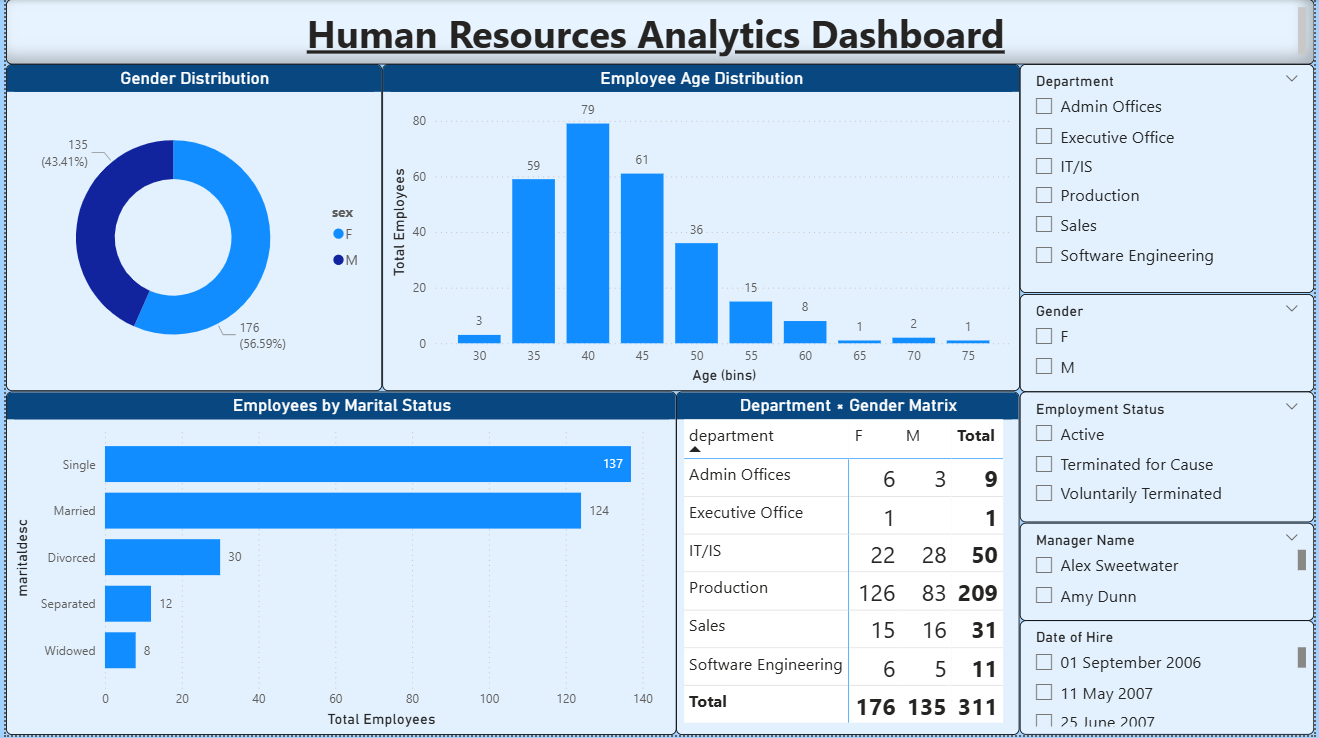

What the dashboard file says about the page in this screenshot:
{"tool":"powerbi","page":{"name":"DEMOGRAPHICS & WORKFORCE","canvas":[1280,720],"ordinal":1},"visuals":[{"type":"textbox","box":[0,0,1280,64],"z":4000},{"type":"donutChart","title":"Gender Distribution","fields":{"Category":["HRDataset_v14_cleaned.sex"],"Y":["HRDataset_v14_cleaned.Total Employees"]},"box":[0,64,368,320],"z":4001},{"type":"clusteredColumnChart","title":"Employee Age Distribution","fields":{"Category":["HRDataset_v14_cleaned.Age (bins)"],"Y":["HRDataset_v14_cleaned.Total Employees"]},"box":[368,64,624,320],"z":4002},{"type":"clusteredBarChart","title":"Employees by Marital Status","fields":{"Category":["HRDataset_v14_cleaned.maritaldesc"],"Y":["HRDataset_v14_cleaned.Total Employees"]},"box":[0,384,656,336],"z":4003},{"type":"pivotTable","title":"Department × Gender Matrix","fields":{"Rows":["HRDataset_v14_cleaned.department"],"Columns":["HRDataset_v14_cleaned.sex"],"Values":["HRDataset_v14_cleaned.Total Employees"]},"box":[656,384,336,336],"z":4004},{"type":"slicer","fields":{"Values":["HRDataset_v14_cleaned.department"]},"box":[992,64,288,224],"z":4005},{"type":"slicer","fields":{"Values":["HRDataset_v14_cleaned.sex"]},"box":[992,288,288,96],"z":4006},{"type":"slicer","fields":{"Values":["HRDataset_v14_cleaned.employmentstatus"]},"box":[992,384,288,128],"z":4007},{"type":"slicer","fields":{"Values":["HRDataset_v14_cleaned.managername"]},"box":[992,512,288,96],"z":4008},{"type":"slicer","fields":{"Values":["HRDataset_v14_cleaned.dateofhire"]},"box":[992,608,288,112],"z":4009}]}

Visuals, with their boxes in screenshot pixels (x1, y1, x2, y2), scaled from the page's 1280x720 canvas onto the 1319x738 screenshot:
textbox: bbox=[0, 0, 1318, 66]
"Gender Distribution" donutChart: bbox=[0, 66, 379, 394]
"Employee Age Distribution" clusteredColumnChart: bbox=[379, 66, 1022, 394]
"Employees by Marital Status" clusteredBarChart: bbox=[0, 394, 676, 737]
"Department × Gender Matrix" pivotTable: bbox=[676, 394, 1022, 737]
slicer - HRDataset_v14_cleaned.department: bbox=[1022, 66, 1318, 295]
slicer - HRDataset_v14_cleaned.sex: bbox=[1022, 295, 1318, 394]
slicer - HRDataset_v14_cleaned.employmentstatus: bbox=[1022, 394, 1318, 525]
slicer - HRDataset_v14_cleaned.managername: bbox=[1022, 525, 1318, 623]
slicer - HRDataset_v14_cleaned.dateofhire: bbox=[1022, 623, 1318, 737]
